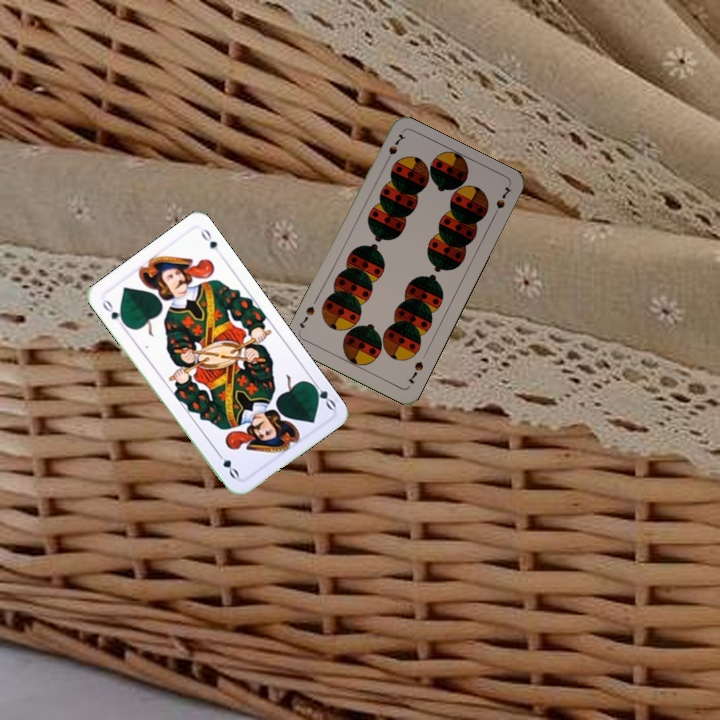GO: (306, 376, 339, 412), (98, 295, 129, 329)
S7: (380, 130, 408, 167), (403, 357, 426, 386)
